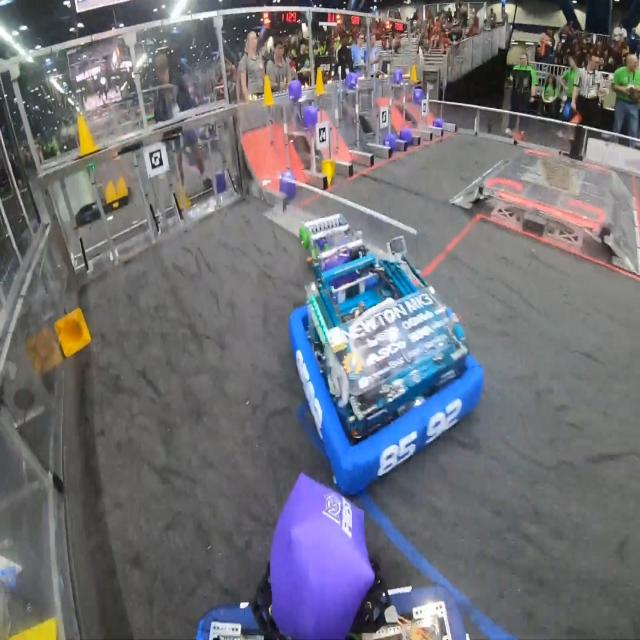robot: (288, 212, 486, 500)
